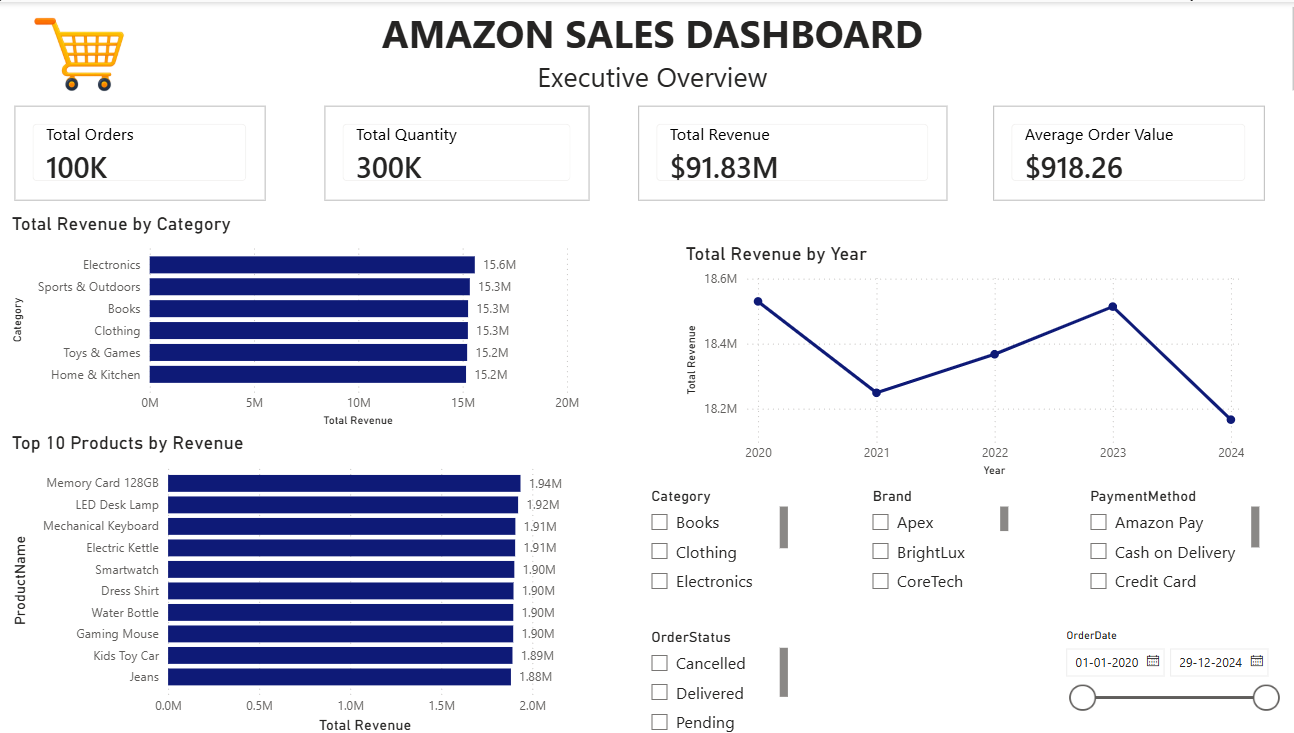

The page's visual inventory and layout, read from the dashboard file:
{"tool":"powerbi","page":{"name":"Page 1","canvas":[1280,720],"ordinal":0},"visuals":[{"type":"textbox","box":[9.8,0,1270.5,92.9],"z":0},{"type":"image","box":[30.2,9.6,112.5,83.7],"z":1},{"type":"cardVisual","fields":{"Data":["Amazon.Total Orders"]},"box":[17.1,101.5,245.8,92.9],"z":2},{"type":"cardVisual","fields":{"Data":["Amazon.Total Quantity"]},"box":[320.4,101.5,259.2,92.9],"z":3},{"type":"cardVisual","fields":{"Data":["Amazon.Total Revenue"]},"box":[627.3,101.5,302,92.9],"z":4},{"type":"cardVisual","fields":{"Data":["Amazon.Average Order Value"]},"box":[974.6,101.5,265.4,92.9],"z":5},{"type":"barChart","fields":{"Category":["Amazon.Category"],"Y":["Amazon.Total Revenue"]},"box":[9.8,206.7,564.9,214],"z":6},{"type":"barChart","title":"Top 10 Products by Revenue","fields":{"Category":["Amazon.ProductName"],"Y":["Amazon.Total Revenue"]},"box":[9.8,420.7,562.5,299.6],"z":7},{"type":"lineChart","fields":{"Category":["Amazon.OrderDate.Variation.Date Hierarchy.Year","Amazon.OrderDate.Variation.Date Hierarchy.Quarter","Amazon.OrderDate.Variation.Date Hierarchy.Month","Amazon.OrderDate.Variation.Date Hierarchy.Day"],"Y":["Amazon.Total Revenue"]},"box":[668.9,236,556.4,233.6],"z":8},{"type":"slicer","fields":{"Values":["Amazon.Category"]},"box":[627.3,469.6,151.6,113.7],"z":9},{"type":"slicer","fields":{"Values":["Amazon.Brand"]},"box":[843.8,469.6,150.4,112.5],"z":10},{"type":"slicer","fields":{"Values":["Amazon.PaymentMethod"]},"box":[1056.5,469.6,183.4,112.5],"z":11},{"type":"slicer","fields":{"Values":["Amazon.OrderStatus"]},"box":[627.3,607.7,151.6,112.5],"z":12},{"type":"slicer","fields":{"Values":["Amazon.OrderDate"]},"box":[1033.3,607.9,229.2,112.5],"z":13}]}

Visuals, with their boxes in screenshot pixels (x1, y1, x2, y2), scaled from the page's 1280x720 canvas onto the 1294x733 screenshot:
textbox: [x1=10, y1=0, x2=1293, y2=95]
image: [x1=31, y1=10, x2=144, y2=95]
cardVisual - Amazon.Total Orders: [x1=17, y1=103, x2=266, y2=198]
cardVisual - Amazon.Total Quantity: [x1=324, y1=103, x2=586, y2=198]
cardVisual - Amazon.Total Revenue: [x1=634, y1=103, x2=939, y2=198]
cardVisual - Amazon.Average Order Value: [x1=985, y1=103, x2=1254, y2=198]
barChart - Amazon.Category x Amazon.Total Revenue: [x1=10, y1=210, x2=581, y2=428]
"Top 10 Products by Revenue" barChart: [x1=10, y1=428, x2=579, y2=732]
lineChart - Amazon.OrderDate.Variation.Date Hierarchy.Year x Amazon.OrderDate.Variation.Date Hierarchy.Quarter: [x1=676, y1=240, x2=1239, y2=478]
slicer - Amazon.Category: [x1=634, y1=478, x2=787, y2=594]
slicer - Amazon.Brand: [x1=853, y1=478, x2=1005, y2=593]
slicer - Amazon.PaymentMethod: [x1=1068, y1=478, x2=1253, y2=593]
slicer - Amazon.OrderStatus: [x1=634, y1=619, x2=787, y2=732]
slicer - Amazon.OrderDate: [x1=1045, y1=619, x2=1276, y2=732]
